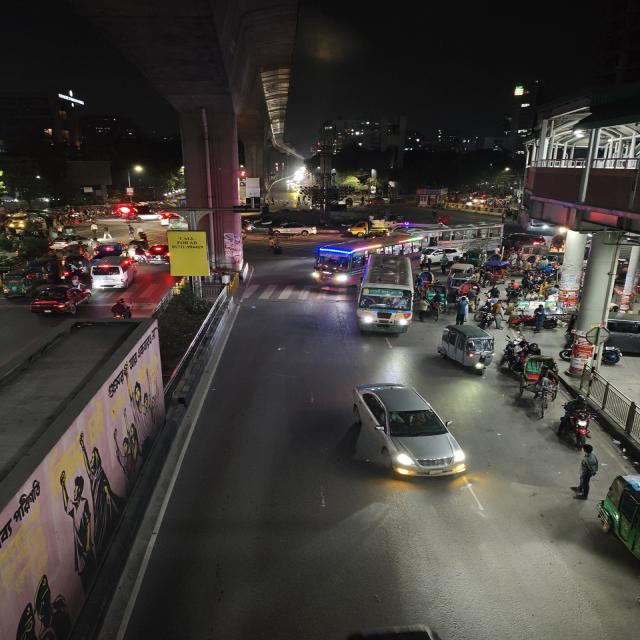bus: (354, 254, 416, 338), (596, 471, 640, 585), (310, 239, 369, 287)
car: (341, 379, 472, 487), (29, 284, 91, 316), (89, 256, 138, 290), (502, 232, 550, 252), (138, 241, 171, 265), (272, 222, 312, 238), (134, 208, 158, 221)
cng: (435, 322, 497, 376), (1, 267, 35, 297), (26, 258, 59, 280), (63, 253, 88, 273)
motorcycle: (557, 396, 598, 446), (108, 298, 135, 320)
pedestrian: (570, 447, 601, 499), (508, 308, 531, 336), (529, 305, 549, 333), (453, 296, 471, 324), (477, 300, 494, 328), (491, 301, 507, 329), (415, 296, 431, 324), (426, 296, 442, 322)
pickup_van: (344, 222, 393, 237), (92, 244, 126, 256)
rickshaw: (559, 326, 624, 373), (516, 355, 561, 417), (445, 260, 477, 286), (414, 268, 436, 288)
